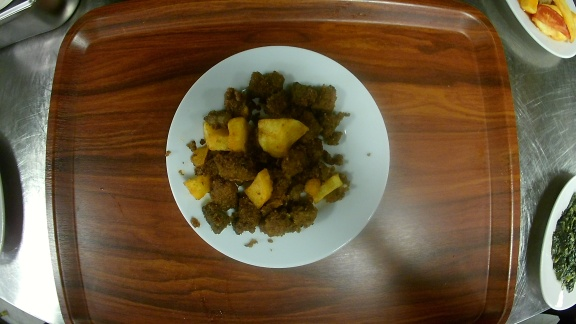arnavutcigeri: (164, 44, 391, 269)
